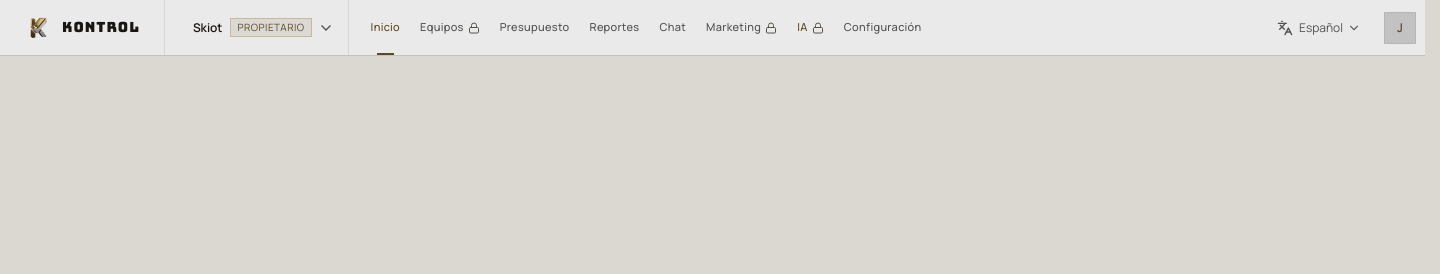
Test case: AppNavbar.vue — selector de empresa › el click en el selector abre el dropdown con las empresas
The width and height of the screenshot is (1440, 274).
Click the element with class "empresa-selector" at (263, 28), box [177,0,349,55]
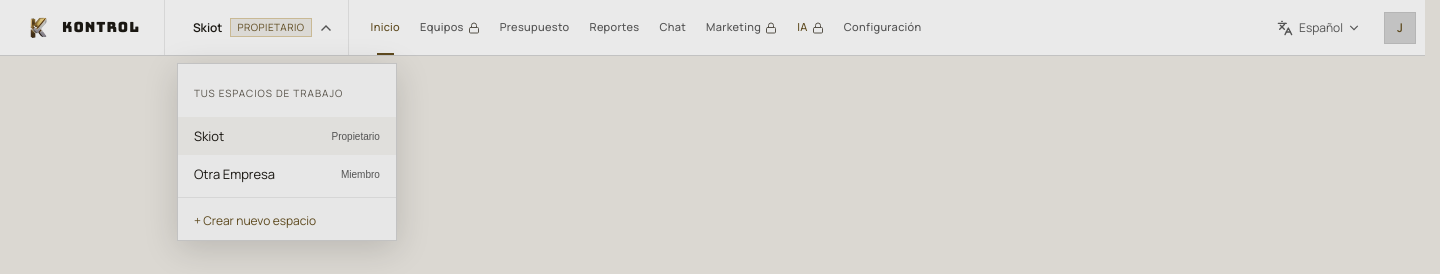
Check: the element with class "empresa-dropdown" is shown, box [177,63,397,241]
Check: the number of buttons with class "dd-item" is 2, box [178,117,396,155]; [178,155,396,193]
